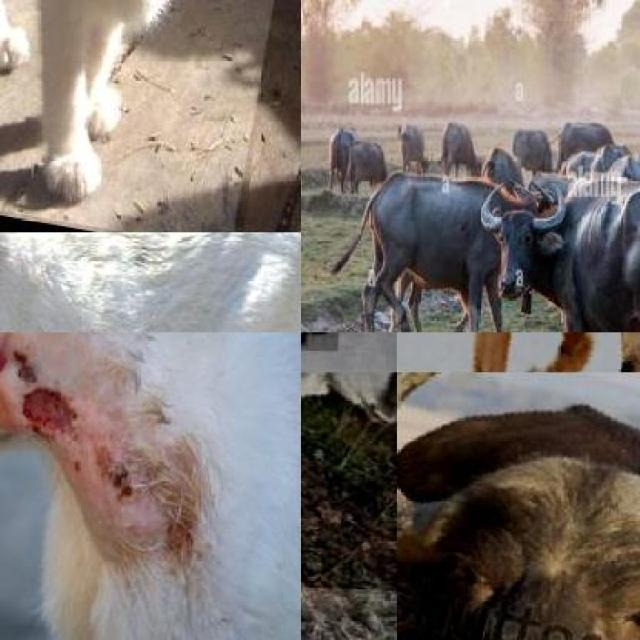buffalo: (397, 372, 640, 640), (363, 172, 488, 332), (494, 202, 640, 332), (555, 113, 616, 161), (348, 131, 386, 191), (322, 118, 356, 184), (398, 123, 436, 182), (448, 115, 481, 180), (513, 122, 550, 170)
cat: (0, 332, 300, 640), (0, 0, 300, 232), (0, 232, 300, 332)
cow: (300, 372, 397, 591)
injured: (26, 371, 79, 440), (0, 232, 20, 291)
